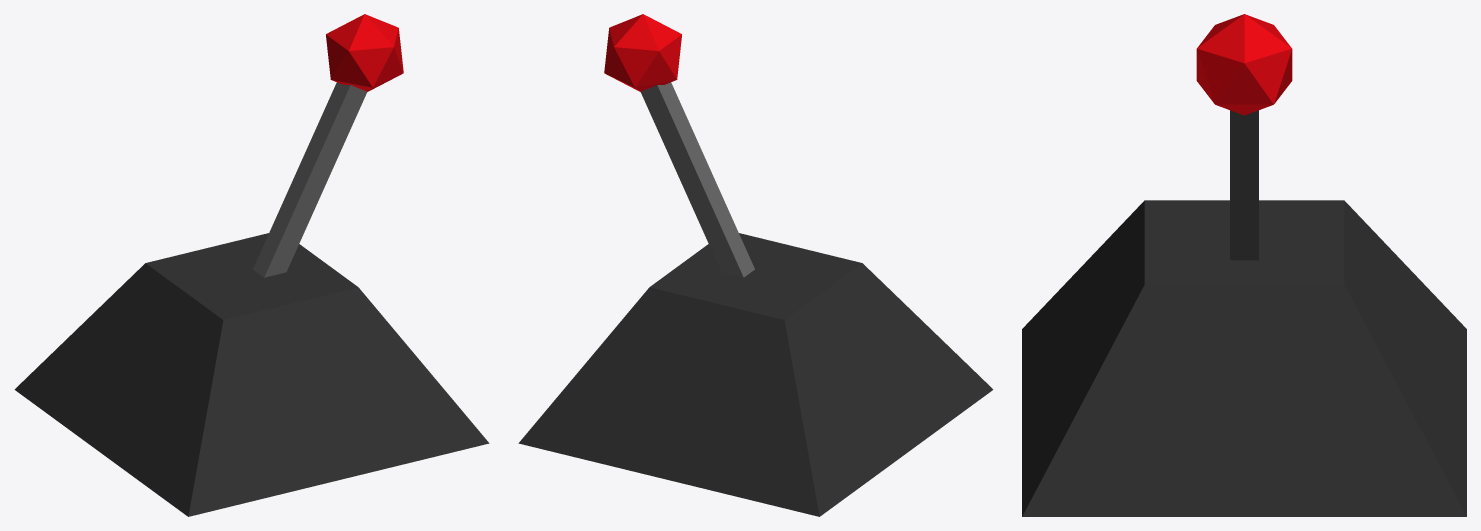
The model's file is 2questRychag.fbx.
The picture shows the model from 3 angles, left to right: view 1: azimuth 30°, elevation 25°; view 2: azimuth 150°, elevation 25°; view 3: azimuth 270°, elevation 25°; orthographic projection. The views are drawn at different scales.
Parts seen in each view (by area): view 1: Cube, Cube.001; view 2: Cube, Cube.001; view 3: Cube, Cube.001.
Boxes of the visible parts, x1,y1,x2,y2 form: Cube: (14,233,489,516); Cube.001: (253,14,403,277); Cube: (518,233,993,516); Cube.001: (604,14,754,277); Cube: (1022,200,1466,516); Cube.001: (1196,14,1292,260).
Bounding box in the file's own units: 600 × 714 × 600.
